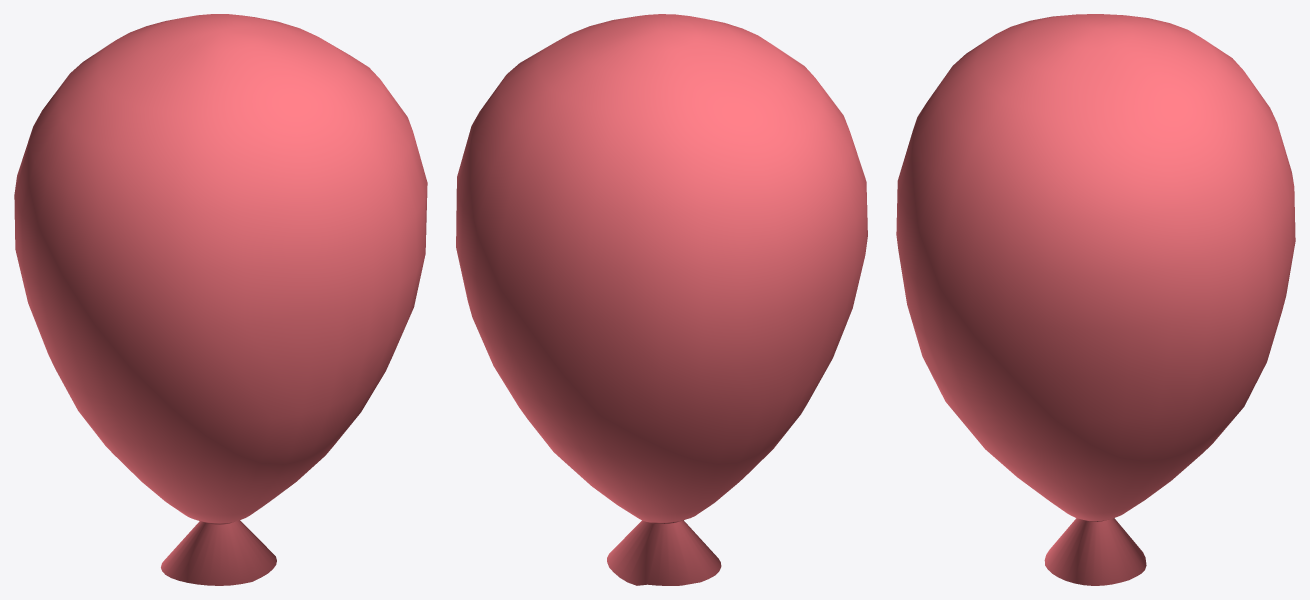
Rendered from balloon.fbx.
3 renders of one model, left to right at view 1: azimuth 30°, elevation 25°; view 2: azimuth 150°, elevation 25°; view 3: azimuth 270°, elevation 25°, orthographic.
Visible parts, largest first — view 1: Sphere; view 2: Sphere; view 3: Sphere.
Boxes of the visible parts, x1,y1,x2,y2 form: Sphere: (14, 14, 427, 585); Sphere: (456, 14, 867, 585); Sphere: (896, 14, 1295, 585).
Bounding box in the file's own units: 240 × 342 × 230.
